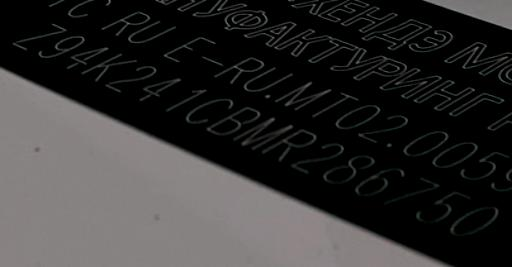letter: (416, 188, 474, 224), (231, 116, 293, 149), (380, 176, 442, 206), (291, 139, 345, 173), (446, 203, 500, 237), (260, 128, 318, 159), (320, 152, 376, 184), (10, 21, 68, 50), (205, 106, 263, 135), (78, 53, 138, 80), (355, 165, 405, 196), (106, 64, 156, 91), (184, 97, 234, 124), (36, 35, 86, 59), (163, 87, 209, 113), (138, 76, 182, 101), (64, 47, 112, 69)
